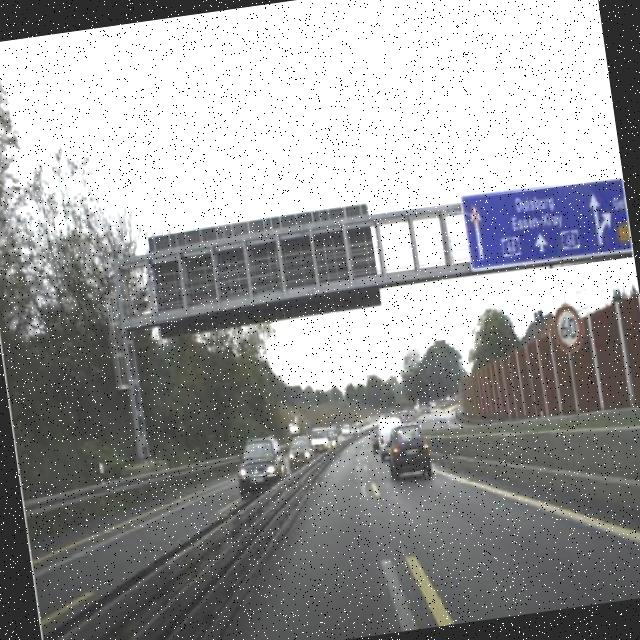Ograniczenie predkosci do 60: (546, 297, 590, 357)
